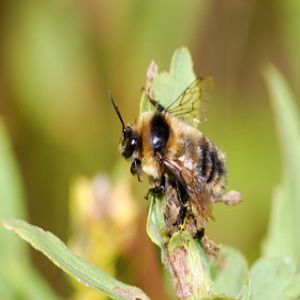bee: (107, 90, 236, 216)
